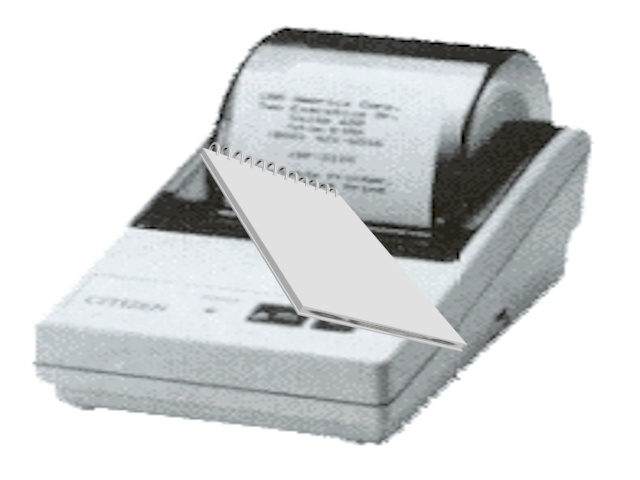paper_notebook: (193, 137, 472, 352)
